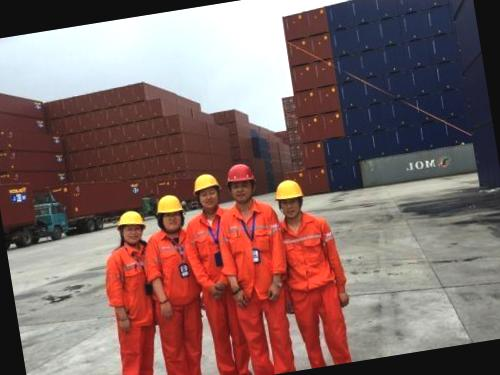helmet: (224, 161, 258, 184), (152, 193, 185, 216), (190, 170, 221, 194), (271, 178, 302, 202), (113, 208, 146, 230)
person: (209, 155, 306, 375), (268, 171, 360, 370), (173, 165, 253, 375), (133, 192, 213, 375), (93, 206, 174, 375)
